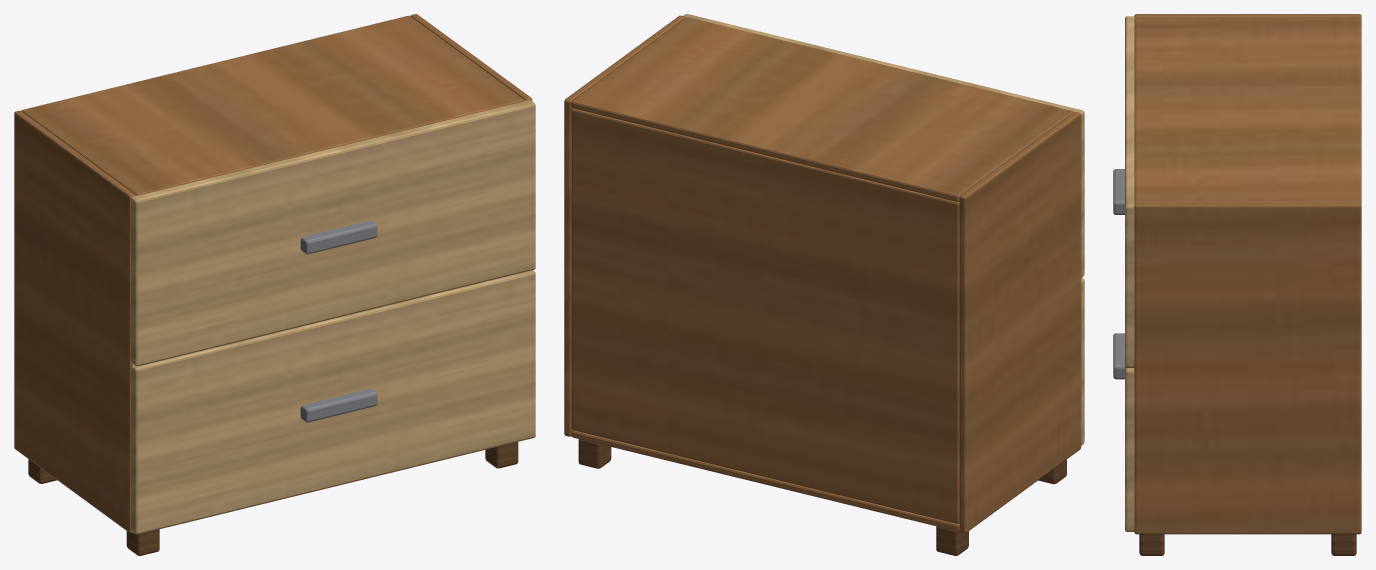
The model's file is dresser.glb.
3 views of the same model, side by side, from view 1: azimuth 30°, elevation 25°; view 2: azimuth 150°, elevation 25°; view 3: azimuth 270°, elevation 25° (orthographic). The views are drawn at different scales.
Parts seen in each view (by area): view 1: dr_body, part_drawer1, part_drawer2, dr_legs; view 2: dr_body, part_drawer1, dr_legs, part_drawer2; view 3: dr_body, part_drawer1, part_drawer2, dr_legs.
Boxes of the visible parts, x1,y1,x2,y2 form: dr_body: (14,14,532,532); part_drawer1: (131,100,535,366); part_drawer2: (131,270,535,534); dr_legs: (28,442,518,555); dr_body: (564,15,1081,532); part_drawer1: (683,14,1084,277); dr_legs: (578,439,1066,555); part_drawer2: (1081,278,1084,445); dr_body: (1134,14,1361,534); part_drawer1: (1113,16,1134,367); part_drawer2: (1113,333,1134,531); dr_legs: (1139,534,1356,555).
Size of the model in its own units: 0.9 by 0.78 by 0.492.
Materials: 5 (4 with a texture image).
